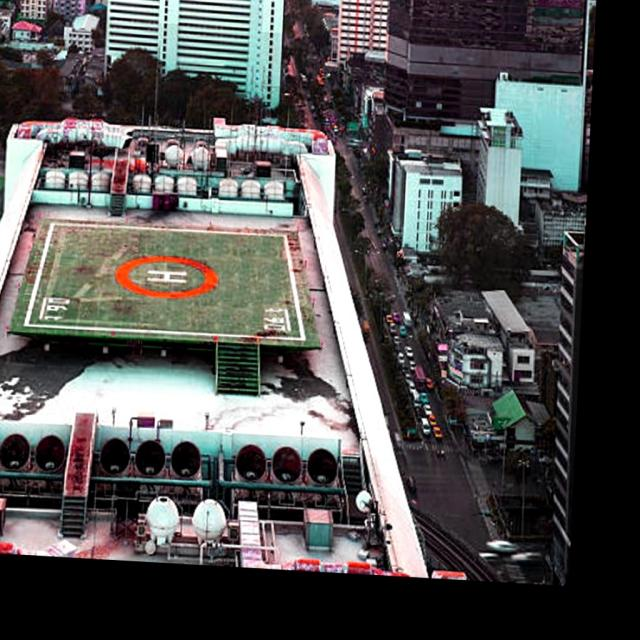helipad: (110, 251, 222, 300)
